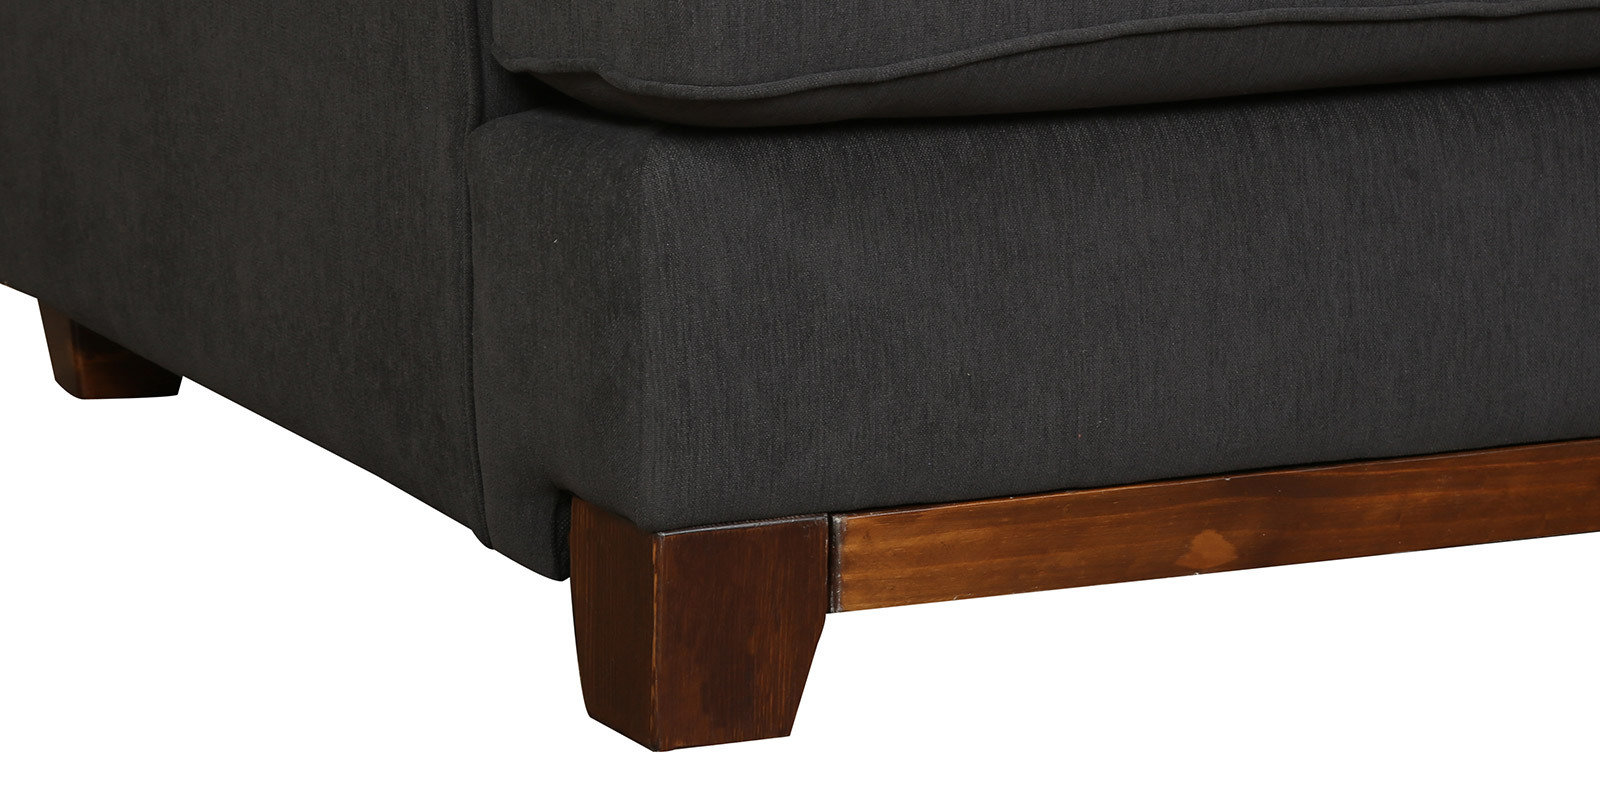Parana Three Seater Sofa in Charcoal Grey Color by CasaCraft: (1, 1, 1600, 753)
